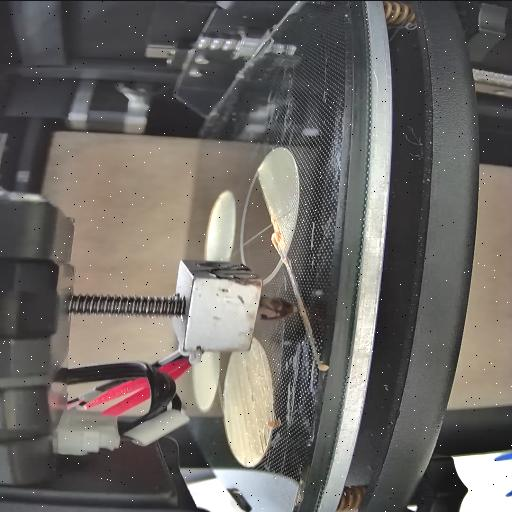under_extrusion: (244, 365, 255, 403), (257, 426, 273, 452), (242, 452, 250, 468)
